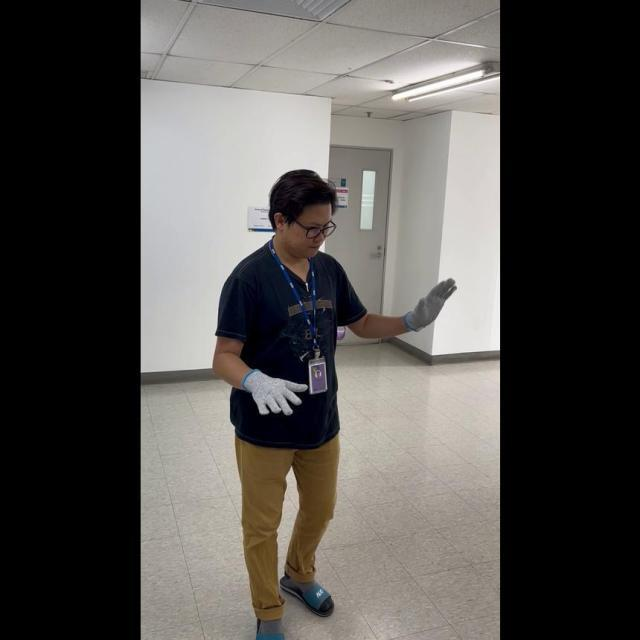gloved_hand: (239, 362, 304, 417), (401, 272, 457, 332)
